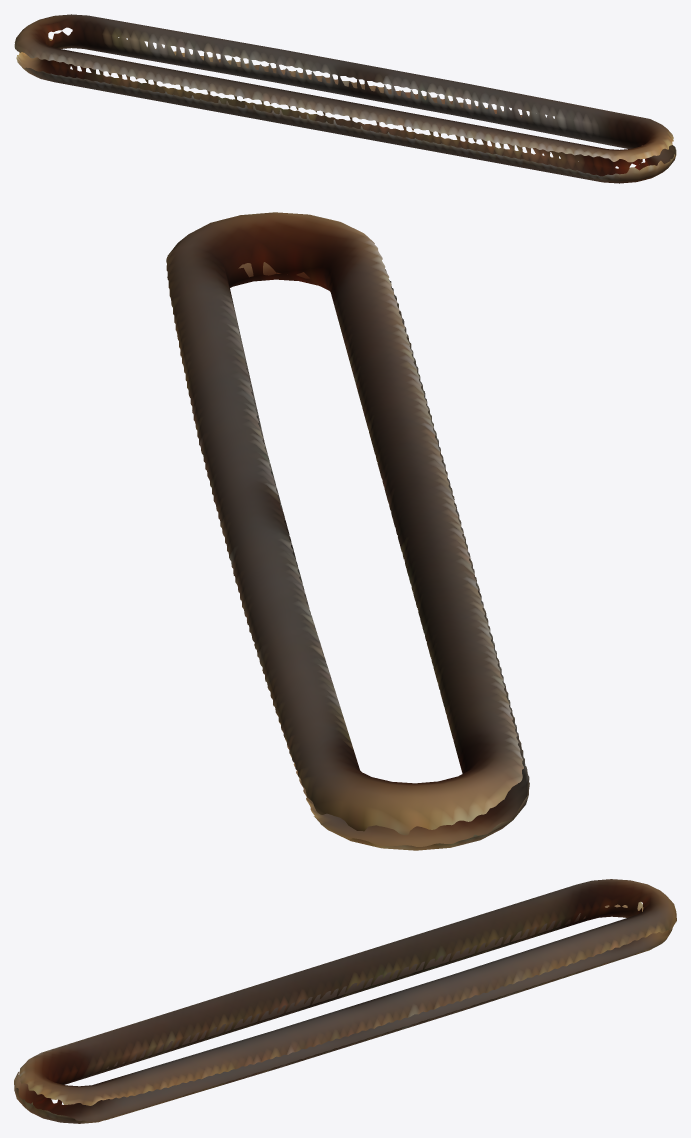
Rendered from rrubber2.fbx.
The picture shows the model from 3 angles, top to bottom: view 1: azimuth 30°, elevation 25°; view 2: azimuth 150°, elevation 25°; view 3: azimuth 270°, elevation 25°; orthographic projection. The views are drawn at different scales.
Parts seen in each view (by area): view 1: rrubber2; view 2: rrubber2; view 3: rrubber2.
Boxes of the visible parts, box(x1,y1,x2,y2) form: rrubber2: box(14, 14, 676, 183); rrubber2: box(166, 212, 529, 850); rrubber2: box(14, 879, 676, 1123).
Size of the model in its own units: 7.06 by 0.5054 by 8.86.
Materials: 1 (1 with a texture image).
